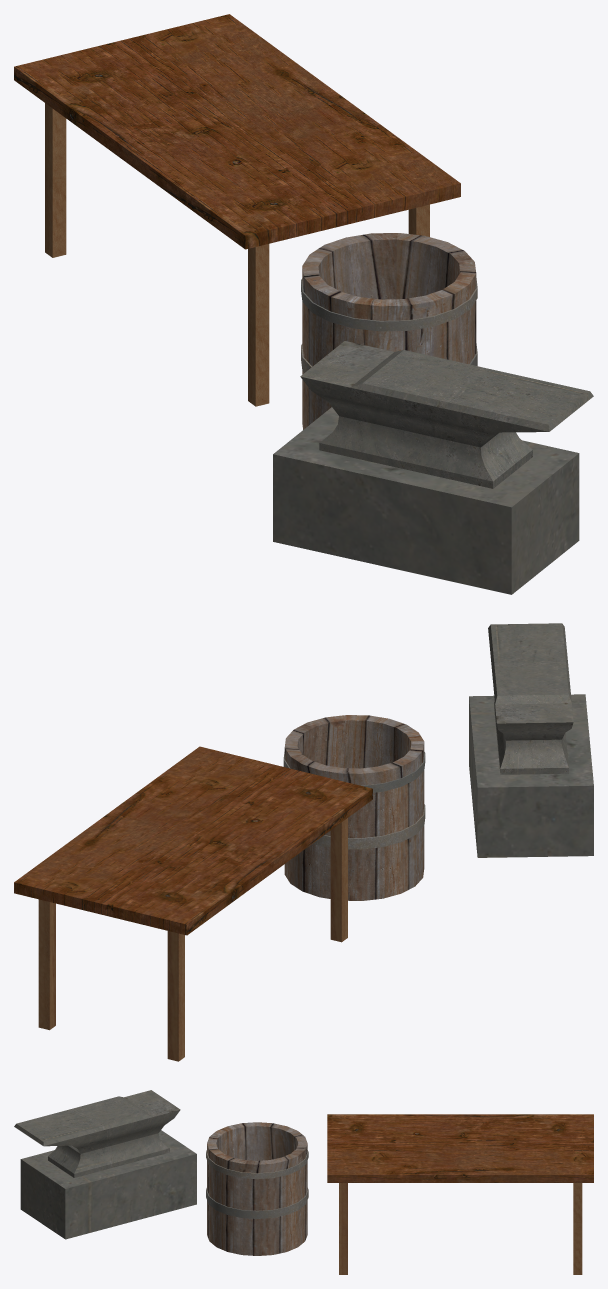
The model's file is misc game object.fbx.
3 views of the same model, one above another, from view 1: azimuth 30°, elevation 25°; view 2: azimuth 150°, elevation 25°; view 3: azimuth 270°, elevation 25° (orthographic). The views are drawn at different scales.
Parts seen in each view (by area): view 1: forge_misc; view 2: forge_misc; view 3: forge_misc.
Boxes of the visible parts, x1,y1,x2,y2 form: forge_misc: (14, 14, 593, 594); forge_misc: (14, 623, 593, 1061); forge_misc: (14, 1090, 593, 1274).
Size of the model in its own units: 27.55 by 14.25 by 70.7.
